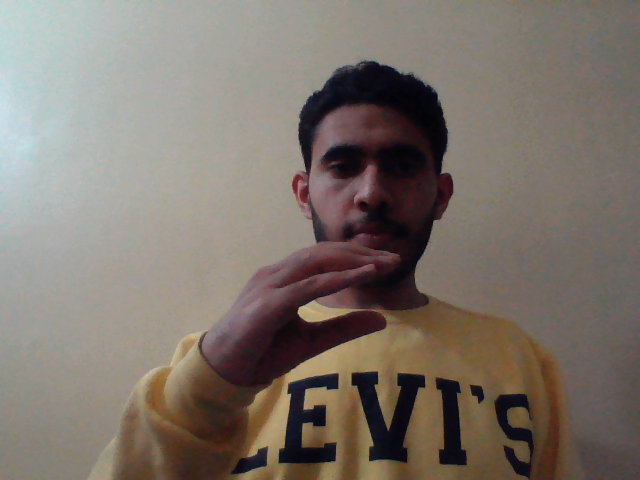C: (193, 235, 402, 393)
